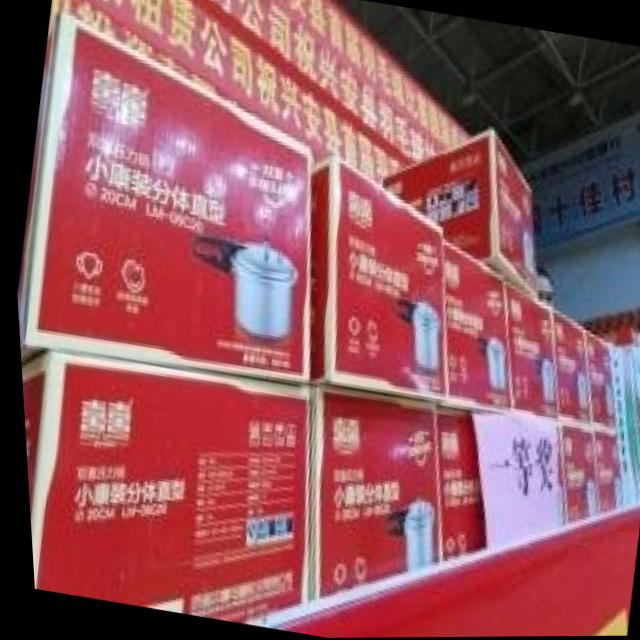box: (14, 5, 310, 383), (17, 356, 303, 626), (304, 159, 442, 401), (299, 383, 436, 602), (381, 130, 537, 299), (432, 408, 560, 564), (437, 242, 507, 412), (502, 279, 554, 420), (546, 310, 588, 431), (554, 423, 598, 523), (581, 330, 611, 438), (590, 432, 626, 515)
